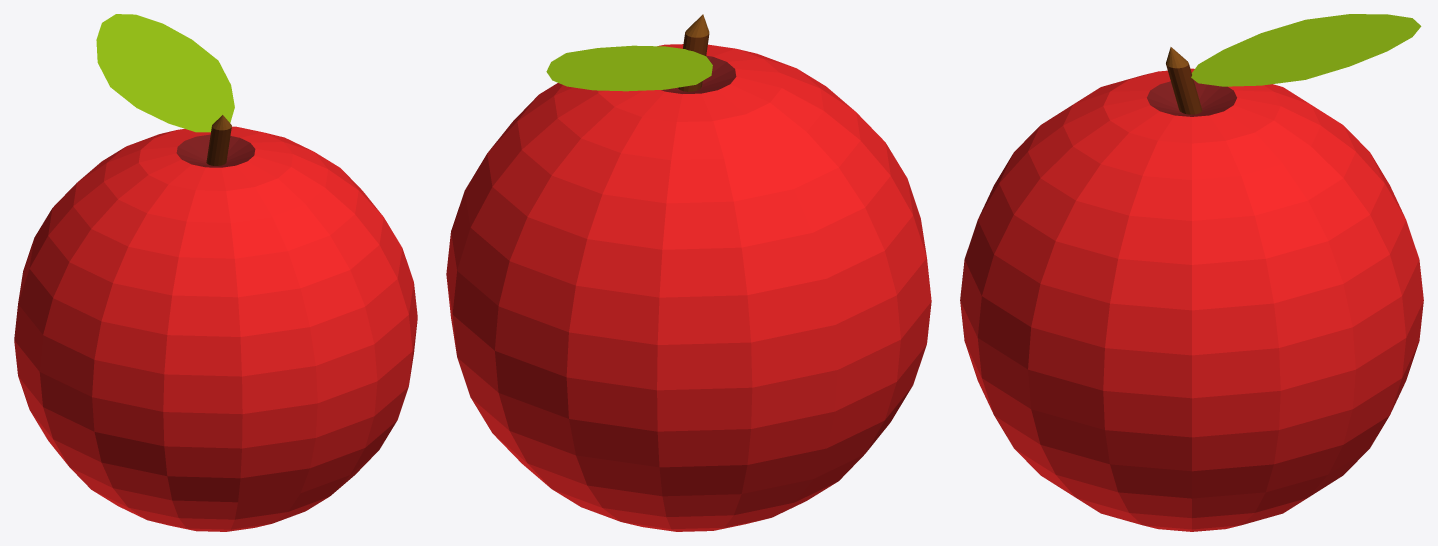
Rendered from apple.glb.
The picture shows the model from 3 angles, left to right: view 1: azimuth 30°, elevation 25°; view 2: azimuth 150°, elevation 25°; view 3: azimuth 270°, elevation 25°; orthographic projection. The views are drawn at different scales.
Visible parts, largest first — view 1: Circle; view 2: Circle; view 3: Circle.
Boxes of the visible parts, x1=… form: Circle: x1=14, y1=14, x2=417, y2=531; Circle: x1=446, y1=14, x2=931, y2=531; Circle: x1=960, y1=14, x2=1423, y2=531.
Size of the model in its own units: 2 by 2.26 by 2.
Materials: 1 (1 with a texture image).
